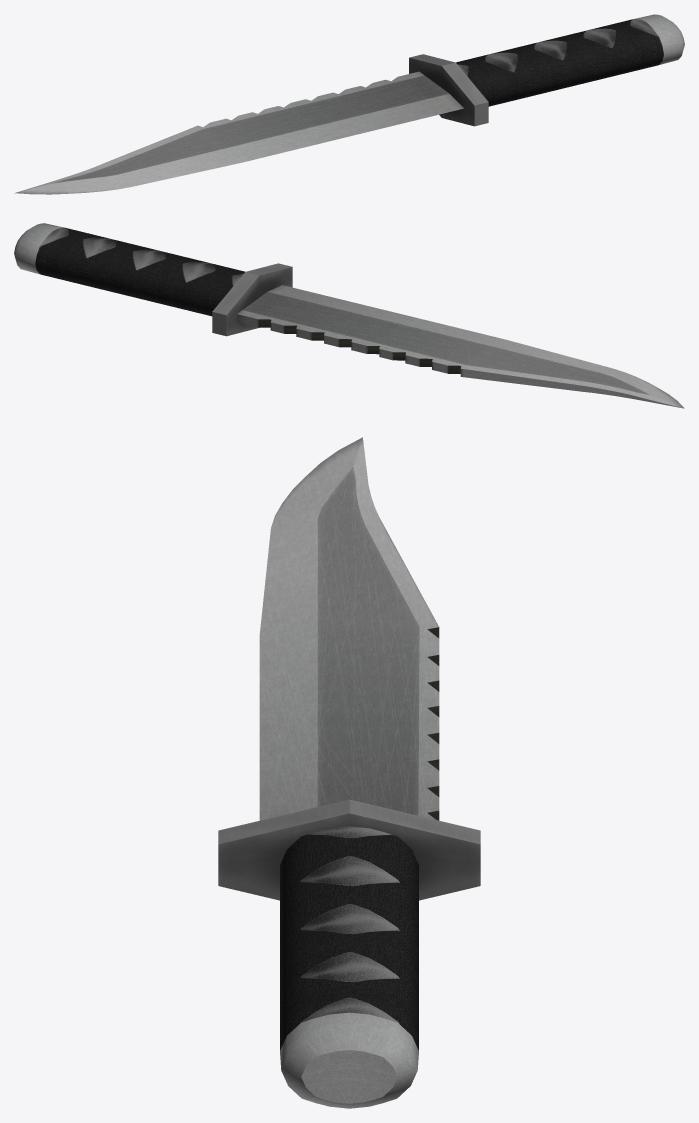
Rendered from combat_knife.fbx.
3 renders of one model, top to bottom at view 1: azimuth 30°, elevation 25°; view 2: azimuth 150°, elevation 25°; view 3: azimuth 270°, elevation 25°, orthographic. The views are drawn at different scales.
Visible parts, largest first — view 1: combat_knife; view 2: combat_knife; view 3: combat_knife.
Part boxes in pixels (<box>): combat_knife: <box>14,14,684,194</box>; combat_knife: <box>14,223,684,408</box>; combat_knife: <box>218,437,480,1108</box>.
Size of the model in its own units: 35.39 by 6.13 by 2.67.
Materials: 1 (1 with a texture image).
